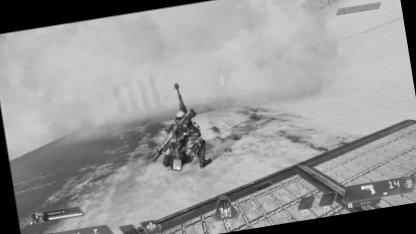Target: (151, 108, 206, 176)
